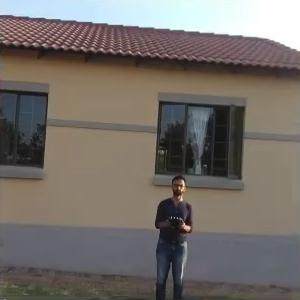follow: (149, 170, 195, 298)
